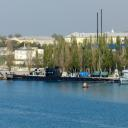submarine: (6, 69, 106, 83)
